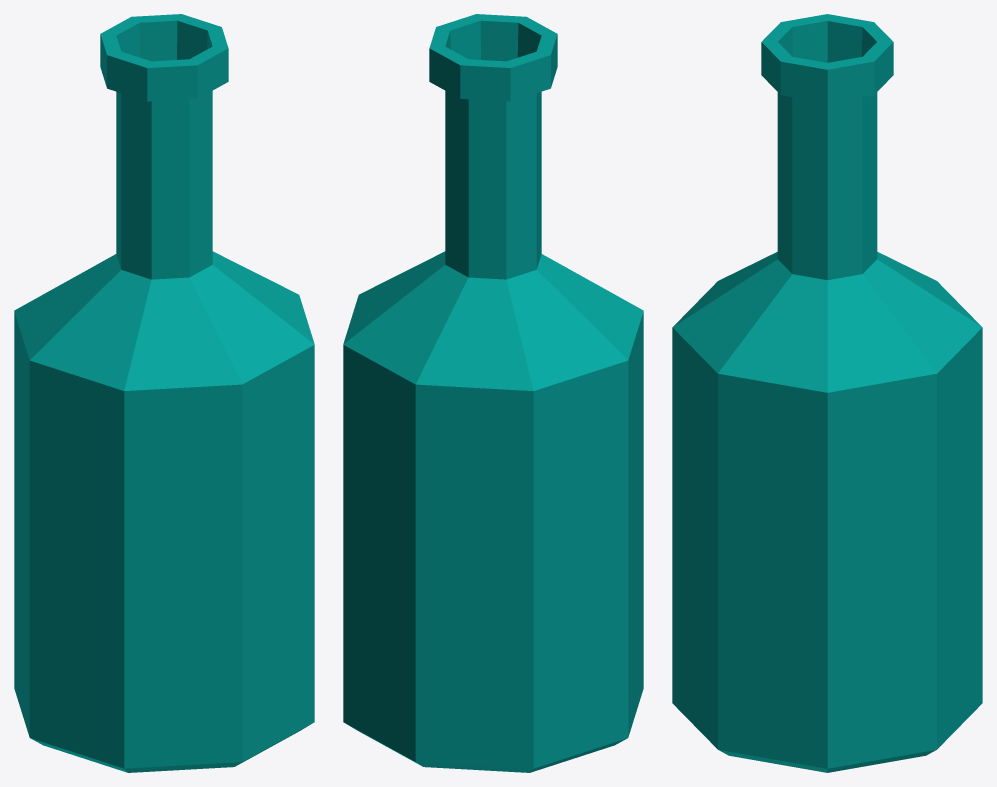
Rendered from Bottle_5.fbx.
The picture shows the model from 3 angles, left to right: view 1: azimuth 30°, elevation 25°; view 2: azimuth 150°, elevation 25°; view 3: azimuth 270°, elevation 25°; orthographic projection.
Visible parts, largest first — view 1: Bottle_5; view 2: Bottle_5; view 3: Bottle_5.
Boxes of the visible parts, x1=… form: Bottle_5: x1=14, y1=14, x2=314, y2=772; Bottle_5: x1=343, y1=14, x2=643, y2=772; Bottle_5: x1=672, y1=14, x2=982, y2=772.
Size of the model in its own units: 7.22 by 7.22 by 17.27.
